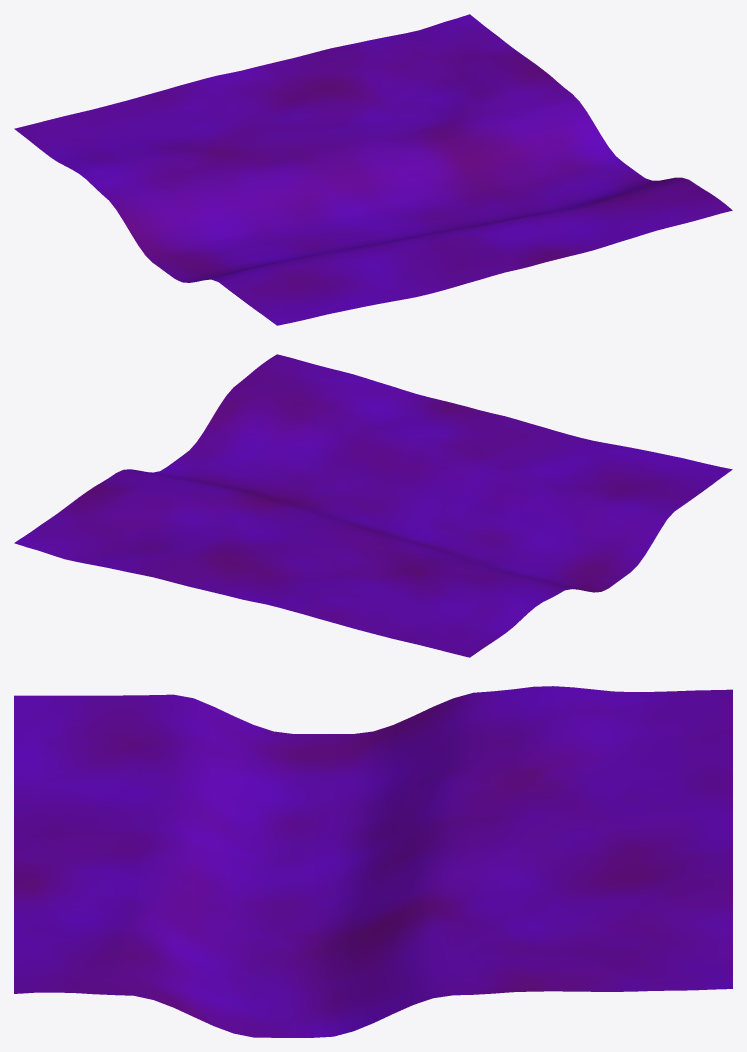
Rendered from ground_32.glb.
The picture shows the model from 3 angles, top to bottom: view 1: azimuth 30°, elevation 25°; view 2: azimuth 150°, elevation 25°; view 3: azimuth 270°, elevation 25°; orthographic projection. The views are drawn at different scales.
Visible parts, largest first — view 1: Ground_32; view 2: Ground_32; view 3: Ground_32.
Boxes of the visible parts, x1,y1,x2,y2 form: Ground_32: (14, 14, 732, 325); Ground_32: (14, 354, 732, 657); Ground_32: (14, 686, 732, 1037).
Size of what is drawn, in the model's own units: 36 by 2.72 by 36.
